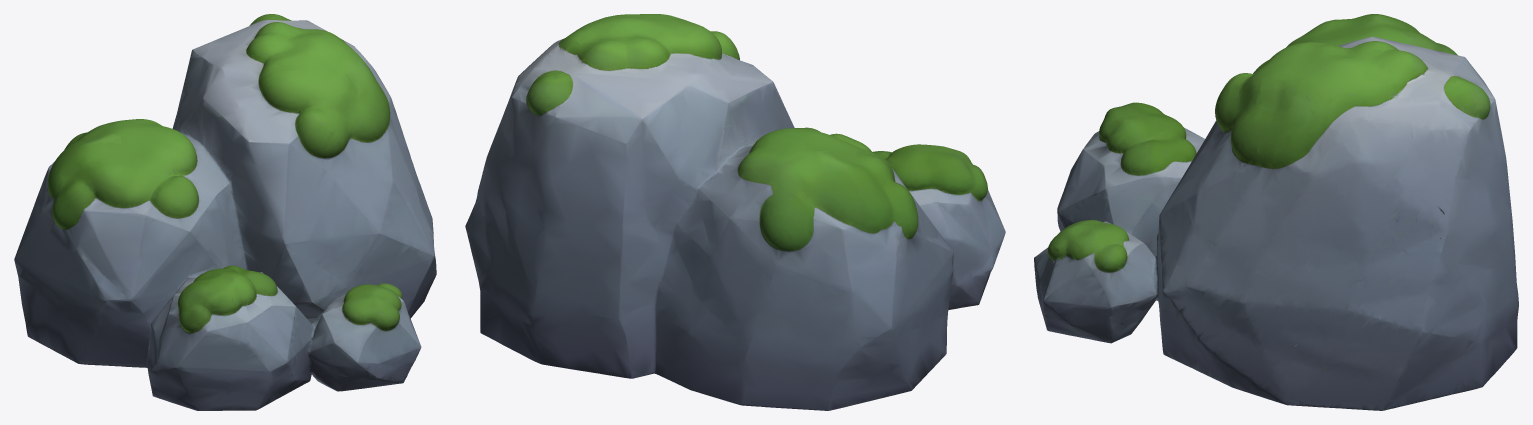
3 views of the same model, side by side, from view 1: azimuth 30°, elevation 25°; view 2: azimuth 150°, elevation 25°; view 3: azimuth 270°, elevation 25° (orthographic). The views are drawn at different scales.
Visible parts, largest first — view 1: Mesh_0; view 2: Mesh_0; view 3: Mesh_0.
Boxes of the visible parts, left/top/right/bottom form: Mesh_0: left=14, top=14, right=436, bottom=410; Mesh_0: left=465, top=14, right=1005, bottom=410; Mesh_0: left=1034, top=14, right=1518, bottom=410.
Size of the model in its own units: 1.9 by 1.19 by 1.8.
1 material, 1 textured.
